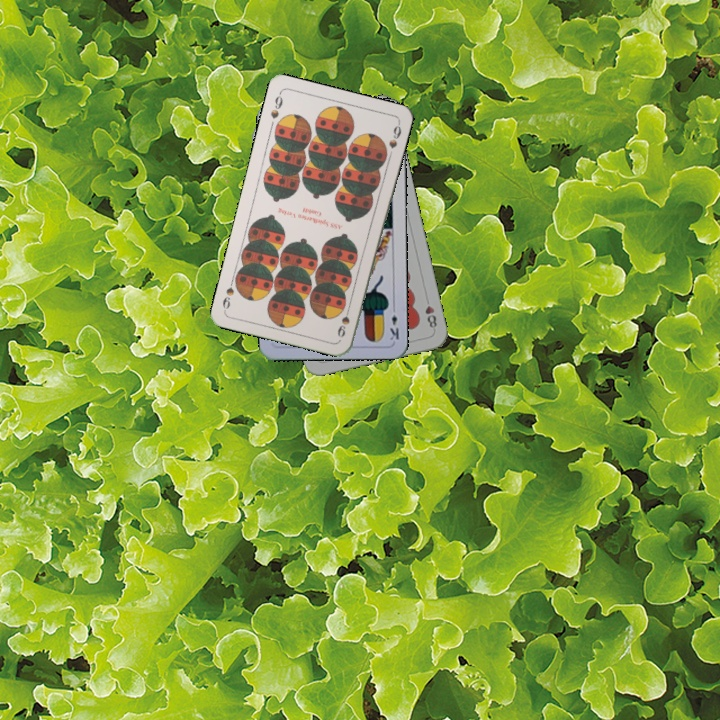EK: (386, 302, 401, 343)
H8: (421, 301, 439, 331)
S9: (333, 301, 353, 340), (266, 89, 285, 121)
